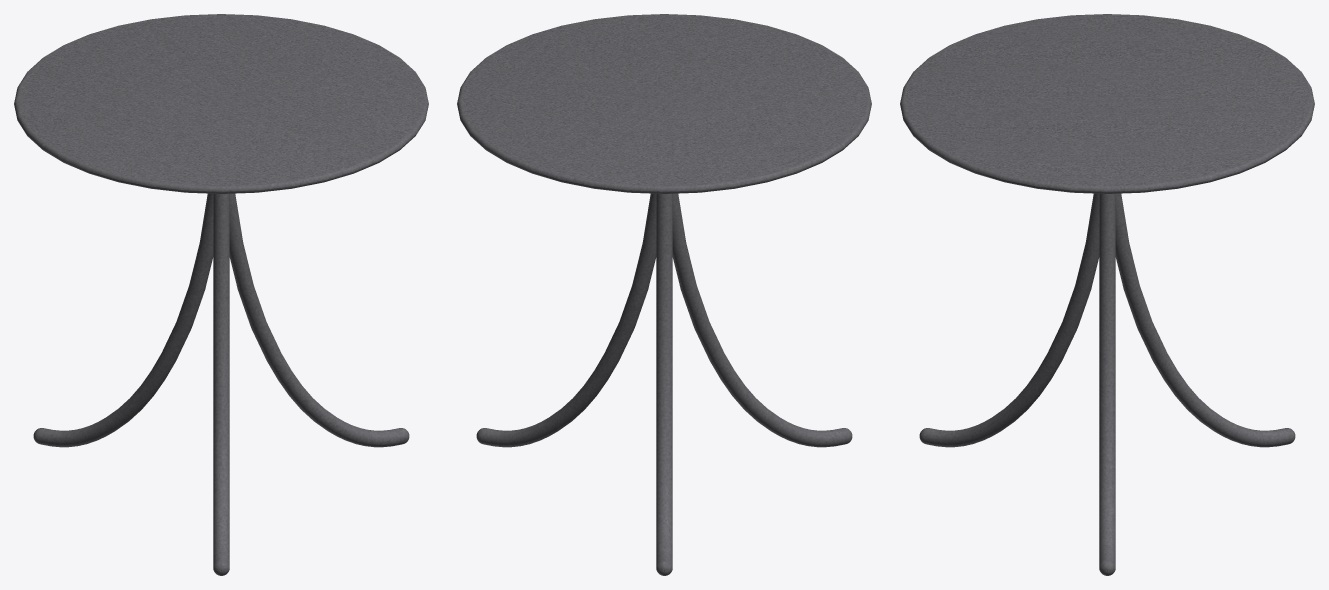
Rendered from Tisch.fbx.
3 views of the same model, side by side, from view 1: azimuth 30°, elevation 25°; view 2: azimuth 150°, elevation 25°; view 3: azimuth 270°, elevation 25° (orthographic).
Parts seen in each view (by area): view 1: Tisch_1; view 2: Tisch_1; view 3: Tisch_1.
Boxes of the visible parts, left/top/right/bottom form: Tisch_1: left=14, top=14, right=428, bottom=575; Tisch_1: left=457, top=14, right=871, bottom=575; Tisch_1: left=900, top=14, right=1314, bottom=575.
Size of the model in its own units: 102 by 103 by 100.
1 material, 1 textured.
